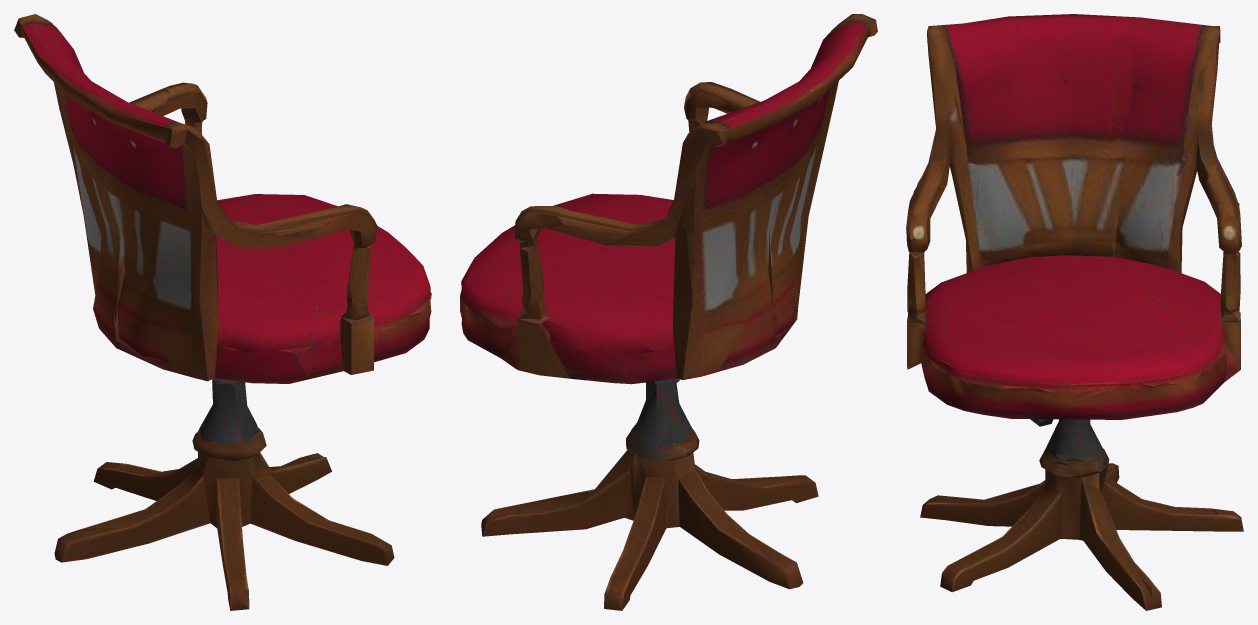
The model's file is mj-dining-chair-2nd-swivel.glb.
The picture shows the model from 3 angles, left to right: view 1: azimuth 30°, elevation 25°; view 2: azimuth 150°, elevation 25°; view 3: azimuth 270°, elevation 25°; orthographic projection. The views are drawn at different scales.
Visible parts, largest first — view 1: mj-dining-chair-2nd-swivel; view 2: mj-dining-chair-2nd-swivel; view 3: mj-dining-chair-2nd-swivel.
Boxes of the visible parts, bbox=[...] form: mj-dining-chair-2nd-swivel: bbox=[14, 14, 431, 610]; mj-dining-chair-2nd-swivel: bbox=[460, 14, 877, 610]; mj-dining-chair-2nd-swivel: bbox=[906, 14, 1243, 610].
Size of the model in its own units: 0.6 by 0.86 by 0.5693.
Materials: 1 (1 with a texture image).
